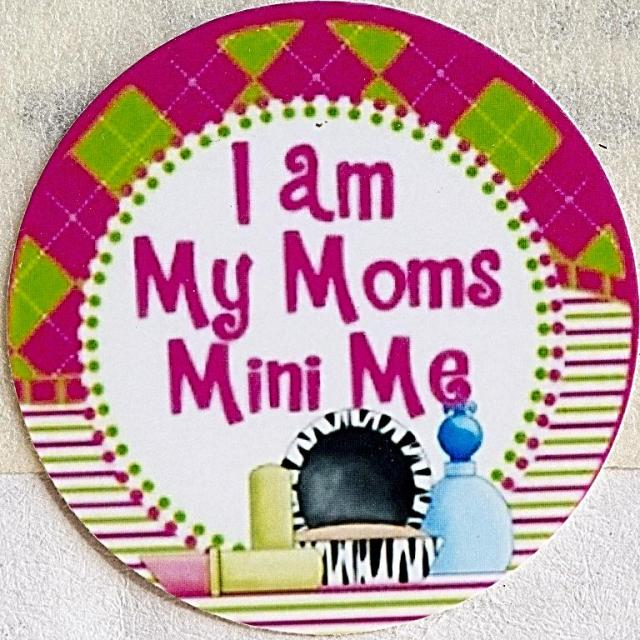non-organic waste: (2, 2, 568, 610)
